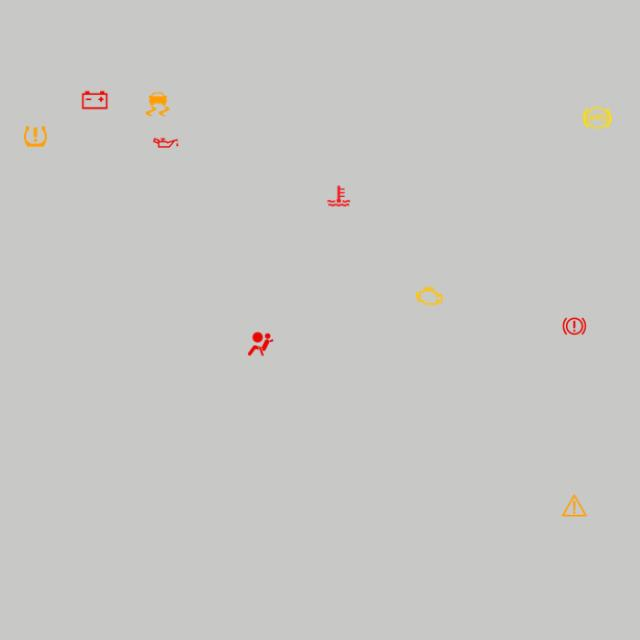Anti Lock Braking System: (582, 102, 613, 134)
Braking System Issue: (559, 311, 590, 342)
Charging System Issue: (79, 84, 111, 116)
Check Engine: (414, 280, 445, 312)
Electronic Stability Problem -ESP-: (142, 88, 173, 120)
Engine Overheating Warning Light: (323, 180, 355, 212)
Low Engine Oil Warning Light: (150, 127, 181, 159)
Low Tire Pressure Warning Light: (20, 121, 51, 152)
Master warning light: (559, 490, 590, 521)
SRS-Airbag: (245, 328, 276, 360)
